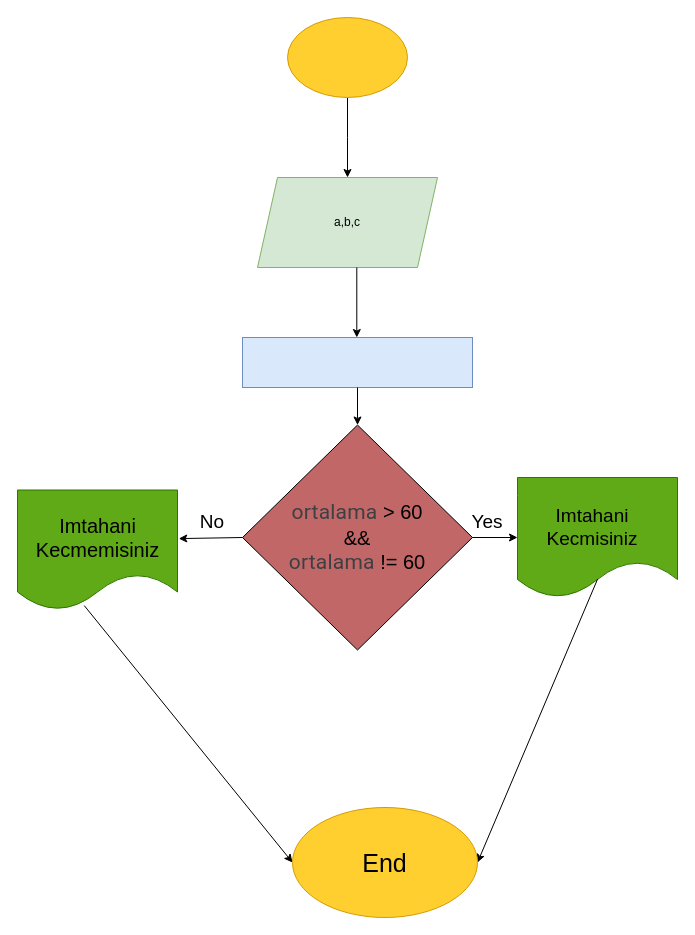
Some shapes in this 695 by 935 pixel diagram are drawn without their labels. The box of each missing label's shape, as (x1, y1, x2, y2) in pixels:
ortalama=( a+b+c) / 3: (242, 336, 472, 388)
Start: (286, 16, 408, 98)
